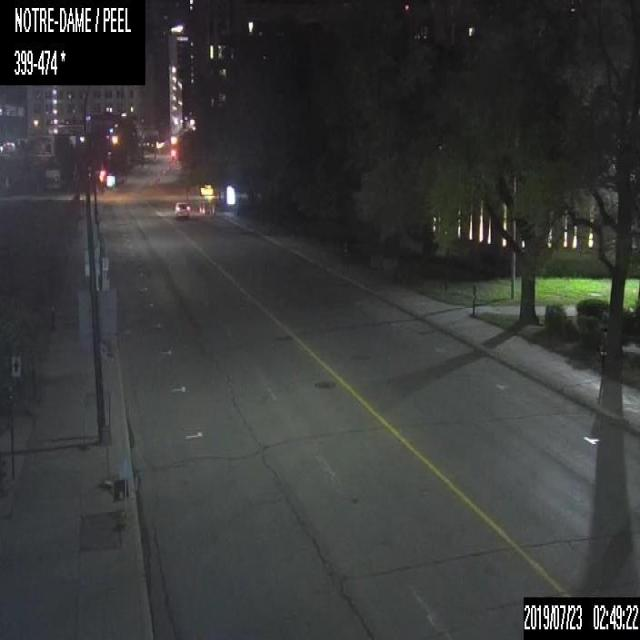construction: (198, 182, 216, 214)
vehicle: (173, 198, 190, 218)
